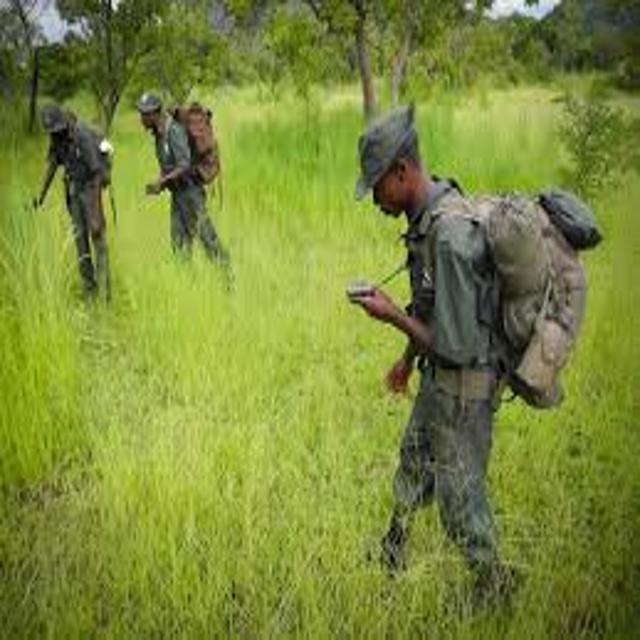backpack: (456, 157, 614, 438), (163, 86, 239, 196)
poacher: (302, 83, 615, 602), (105, 59, 284, 317), (6, 68, 145, 333)
